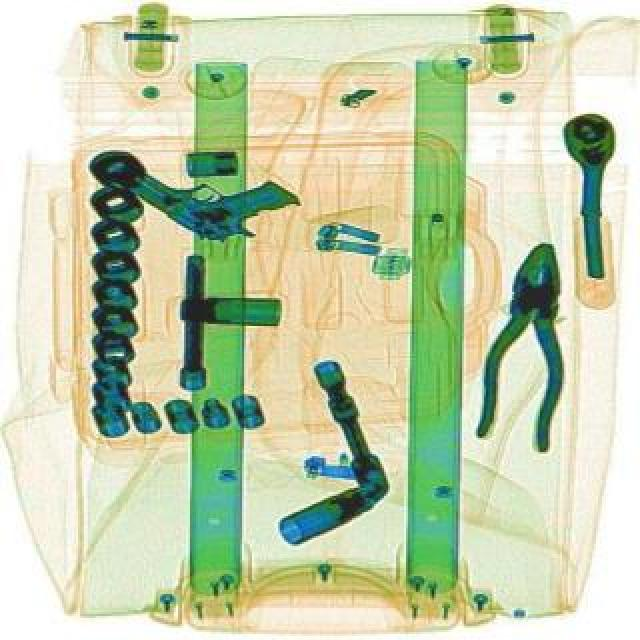gun: (102, 106, 302, 270)
wrench: (468, 240, 580, 456)
